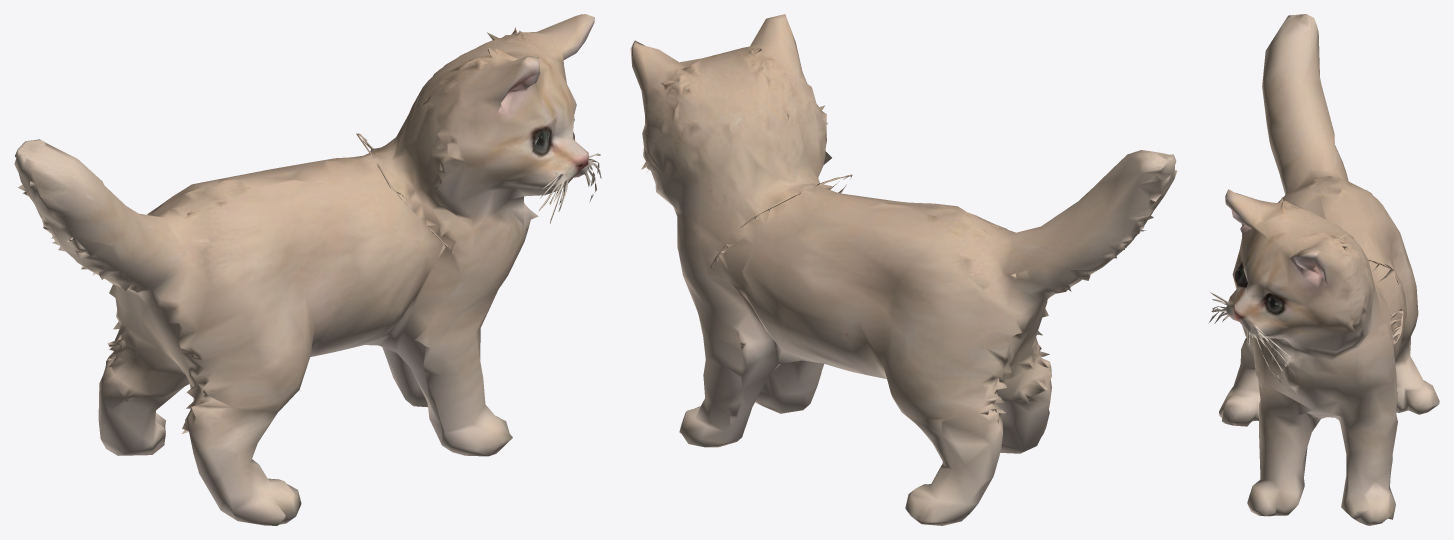
The model's file is SKEINKIT-lo.glb.
3 views of the same model, side by side, from view 1: azimuth 30°, elevation 25°; view 2: azimuth 150°, elevation 25°; view 3: azimuth 270°, elevation 25° (orthographic). The views are drawn at different scales.
Parts seen in each view (by area): view 1: tripo_node_eb901f3c-e77e-4e0c-afb1-659ac82ae002; view 2: tripo_node_eb901f3c-e77e-4e0c-afb1-659ac82ae002; view 3: tripo_node_eb901f3c-e77e-4e0c-afb1-659ac82ae002.
Part boxes in pixels (box(x1,y1,x2,y2)): tripo_node_eb901f3c-e77e-4e0c-afb1-659ac82ae002: box(14, 14, 601, 525); tripo_node_eb901f3c-e77e-4e0c-afb1-659ac82ae002: box(630, 14, 1177, 525); tripo_node_eb901f3c-e77e-4e0c-afb1-659ac82ae002: box(1208, 14, 1439, 525).
Bounding box in the file's own units: 1.51 × 1 × 0.6367.
Materials: 1 (1 with a texture image).
